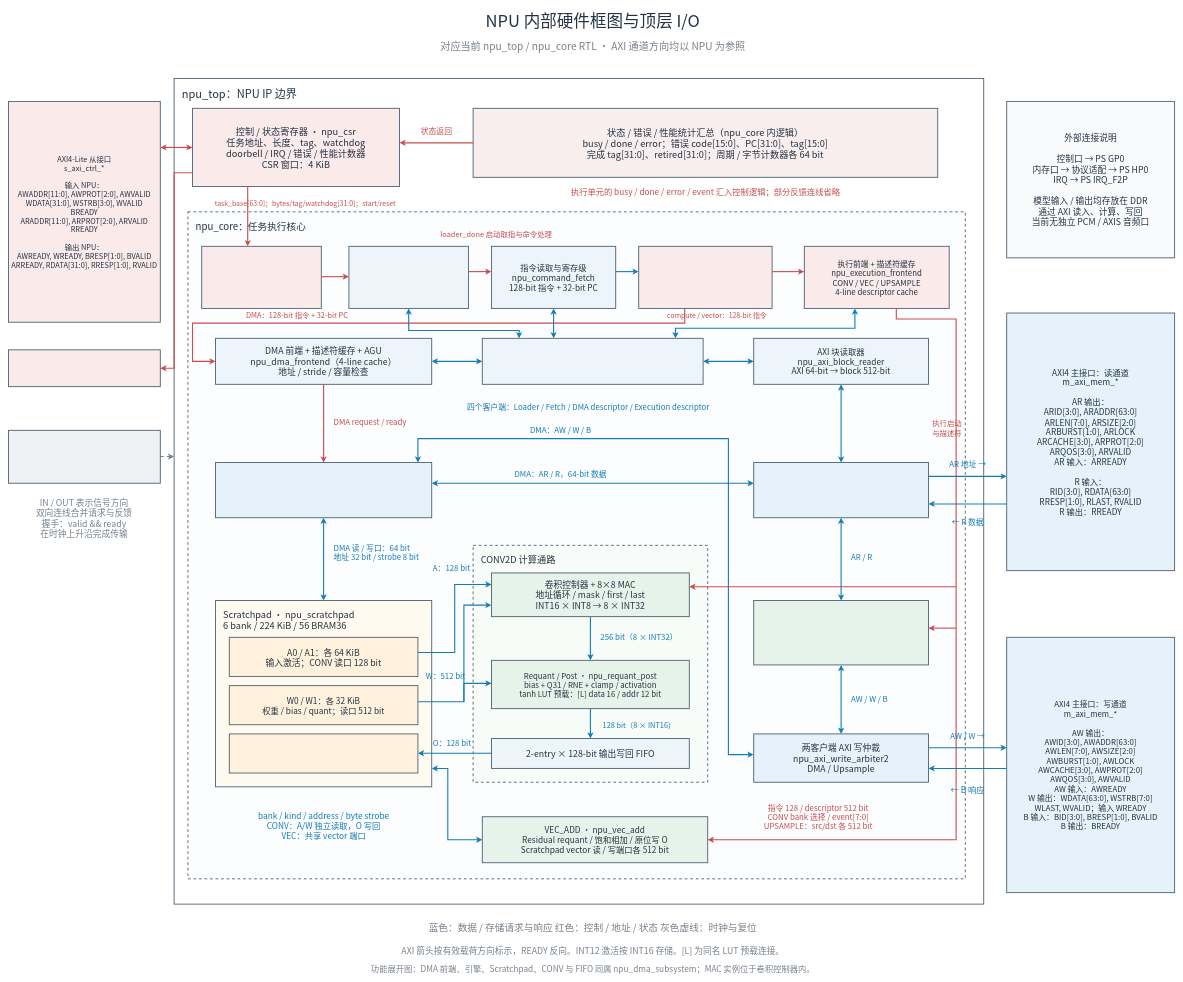
The diagram is 1183 pixels wide and 982 high, and some of its shapes have lost their labels. The shapes that lost their labels are listed below. From the top down, each one's centre as x and y in pixels, then its label:
(261,277): 任务生命周期控制 IDLE / LOAD / RUN PREPARE / RECOVER
(408,277): 任务加载器 npu_task_loader header 校验 / section 基址 LUT 预载 [L]
(705,277): 命令处理器 npu_command_processor 译码 / 分派 / WAIT / END event / watchdog
(84,368): 输出：irq_o（1 bit） 完成 / 错误 / watchdog 中断
(592,361): 四客户端共享块请求仲裁 npu_memory_arbiter4 地址 64 bit / 长度 7 bit / 返回 512 bit
(84,456): 输入：aclk（100 MHz） 输入：aresetn（低有效复位） CSR 与 core 共用
(323,490): DMA 引擎 · npu_dma_engine DMA_LOAD / DMA_STORE / ZERO AXI burst / 4 KiB 拆分 / 错误检查
(841,490): 三客户端 AXI 读仲裁 npu_axi_read_arbiter3 Block reader / DMA / Upsample
(841,632): UPSAMPLE2X npu_upsample2x 最近邻 2× / 1 KiB 行缓冲 直接在 DDR 张量之间读写
(323,753): O0 / O1：各 16 KiB 输出激活；CONV 写口 128 bit
